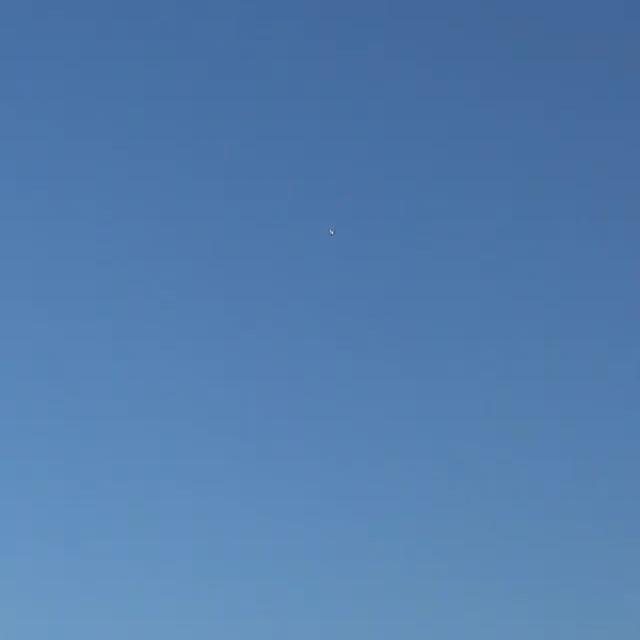AirPlane: (319, 216, 342, 247)
